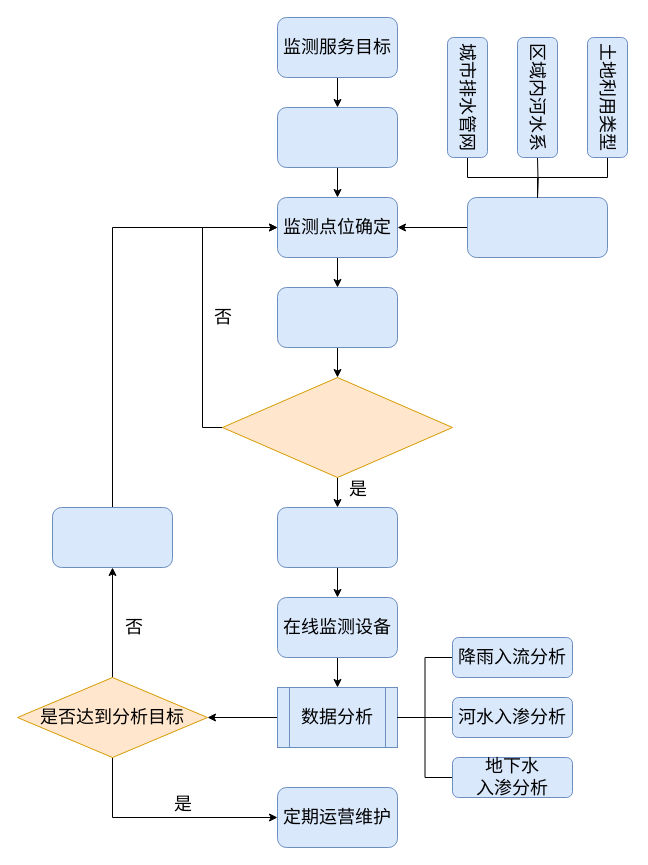
Image size: 648x865. Some labels were removed from this diagram. Each missing label, with the centre of its shape:
在线监测 设备安装: the point at 337,537
基础资料收集: the point at 537,227
是否满足设备安装 及数据采集需求: the point at 337,427
现场调研勘查: the point at 337,317
监测方案迭代: the point at 112,537
管网关键节点: the point at 337,137
